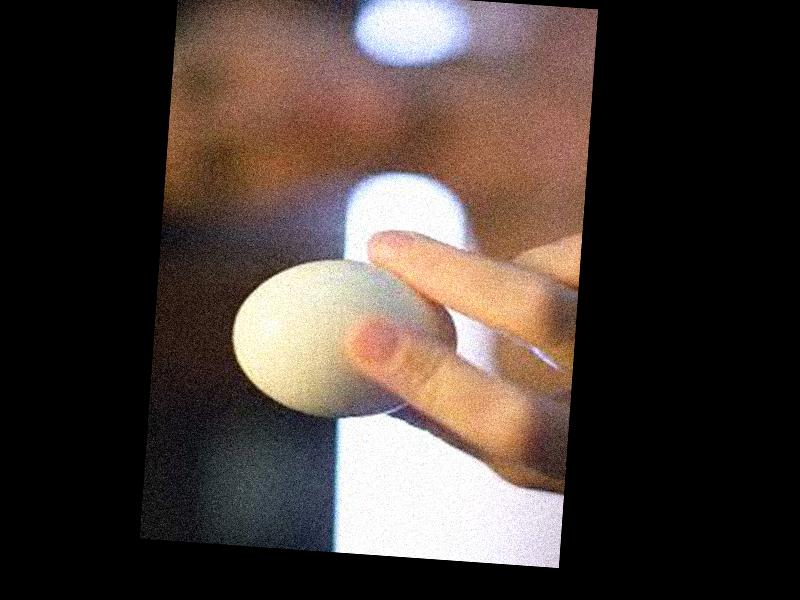Eggs: (227, 249, 463, 423)
